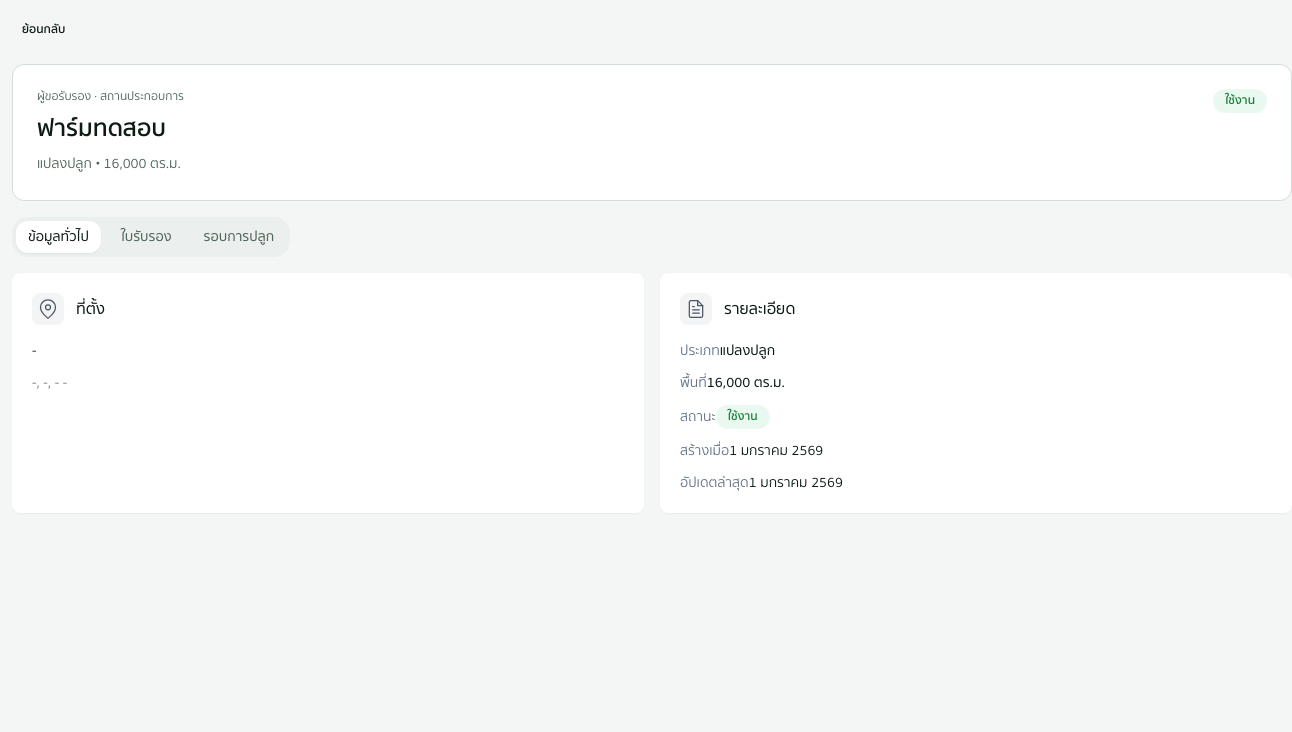
[A2] /health/establishments/[id] — planting-cycle status is a Thai label, not the raw code › renders the Thai label for a known status and an honest fallback for an unknown one
Press the mouse on the tab "รอบการปลูก" at (239,237), box [192,221,286,253]
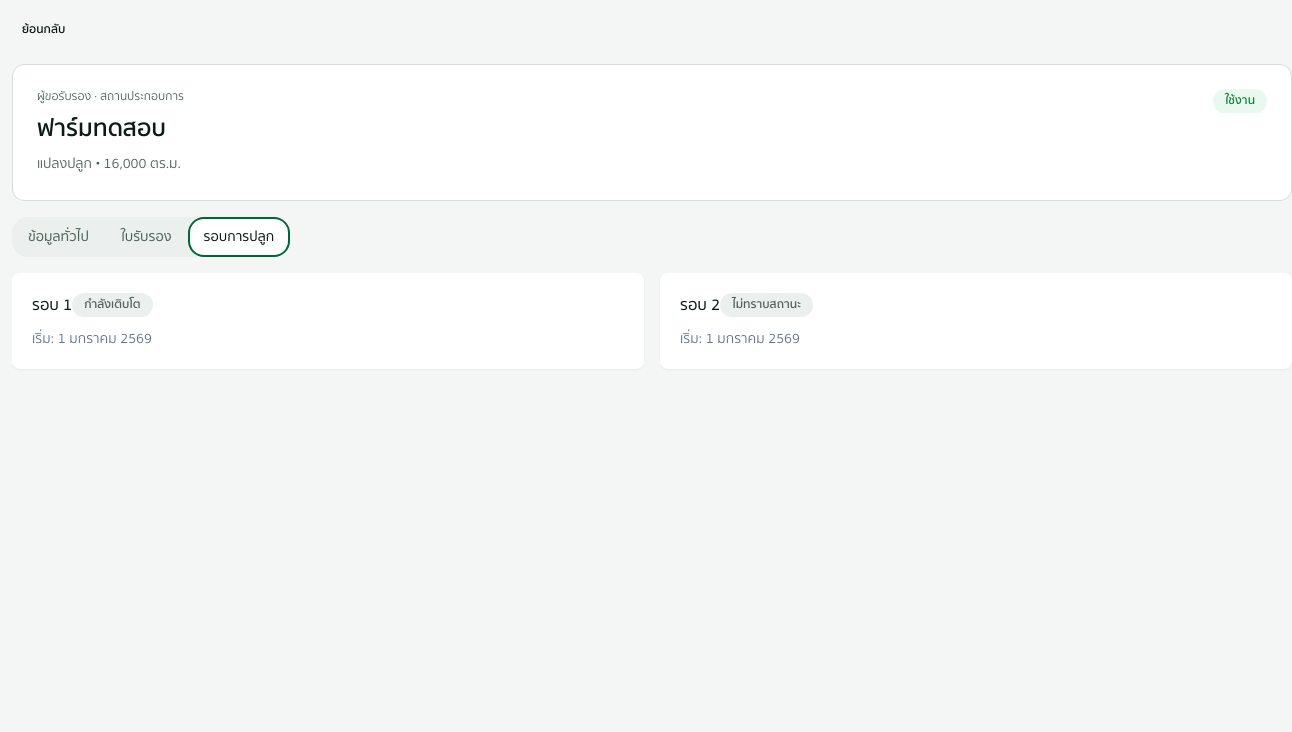
Check: the text "กำลังเติบโต" is shown, box [72,293,153,317]
Check: the text "ไม่ทราบสถานะ" is shown, box [720,293,813,317]
